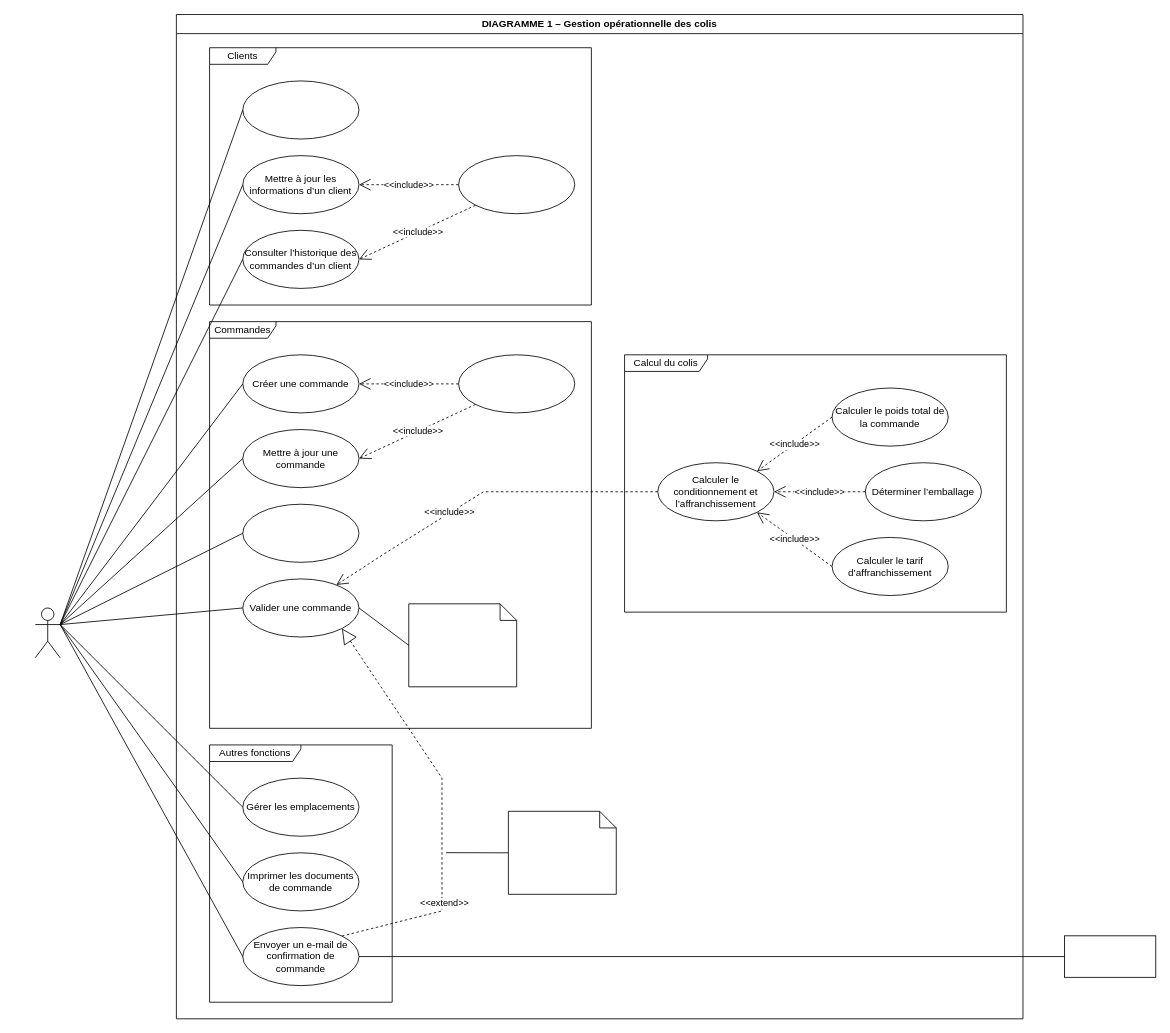
Some shapes in this 1170 by 1033 pixel diagram are drawn without their labels. The centre of each missing label's shape, as x and y in pixels:
"(passage en statut “prête à être envoyée”, chèque vérifié, conditionnement ok)" belongs at (x=462, y=645).
"<<actor>> Serveur de messagerie" belongs at (x=1110, y=956).
"Consulter une commande" belongs at (x=300, y=532).
"Créer un nouveau client" belongs at (x=300, y=109).
"Gérer les lignes d’articles de la commande" belongs at (x=516, y=383).
"Identifier un client" belongs at (x=516, y=184).
"Opérateur colis" belongs at (x=47, y=632).
"{Point d’extension : commande validée ; Condition : client avec adresse e-mail}" belongs at (x=562, y=852).
